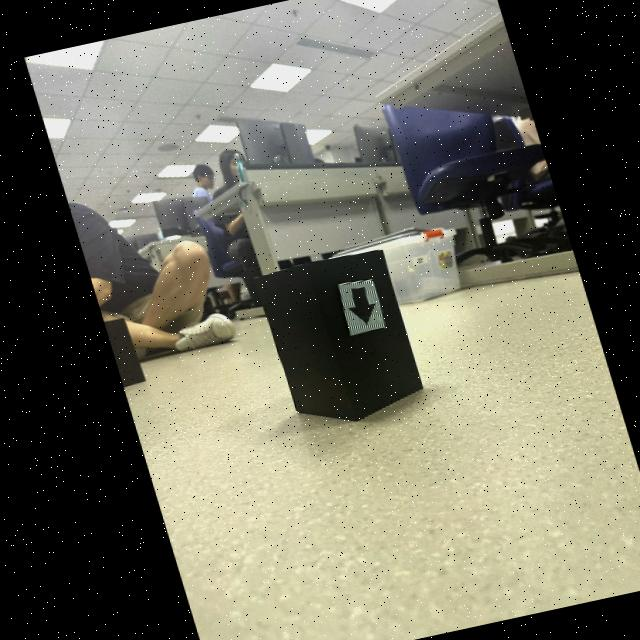DOWN: (343, 287, 369, 323)
